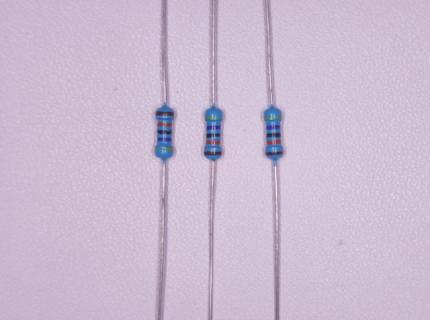Black band: (207, 133, 221, 138), (267, 133, 280, 138), (158, 130, 172, 134)
Brown band: (155, 111, 175, 116), (265, 151, 283, 156), (204, 151, 222, 155)
Orange band: (158, 122, 172, 127), (267, 140, 281, 145), (206, 140, 220, 144)
Violet band: (157, 137, 172, 142), (266, 125, 280, 130), (206, 125, 220, 130)
Yellow band: (155, 147, 174, 151), (264, 116, 282, 120), (205, 116, 222, 120)
